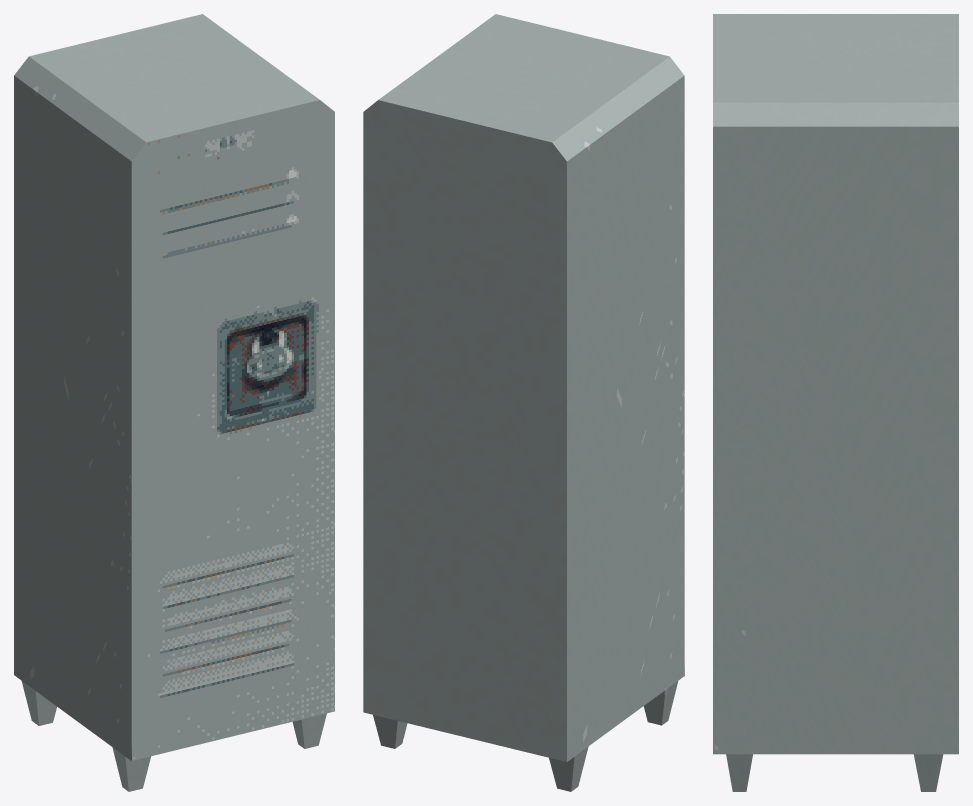
The model's file is office_locker.glb.
3 views of the same model, side by side, from view 1: azimuth 30°, elevation 25°; view 2: azimuth 150°, elevation 25°; view 3: azimuth 270°, elevation 25° (orthographic). The views are drawn at different scales.
Visible parts, largest first — view 1: Cube; view 2: Cube; view 3: Cube.
Part boxes in pixels (x1=…): Cube: x1=14, y1=14, x2=334, y2=791; Cube: x1=363, y1=14, x2=684, y2=791; Cube: x1=713, y1=14, x2=958, y2=791.
Size of the model in its own units: 1.1 by 3.38 by 1.1.
2 materials, 2 textured.
